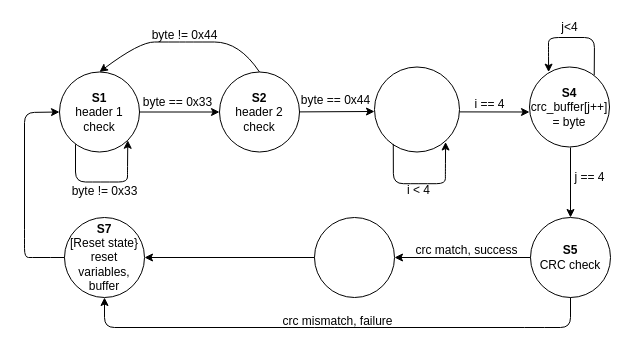
Image size: 632x353. Some labels were removed from this diagram. Here are the shapes that lost their labels. From the top down, the box of each, then its label:
(374, 66, 460, 152): S3 data_buffer[i++] = byte
(314, 216, 394, 298): S6 Execute RC Command
